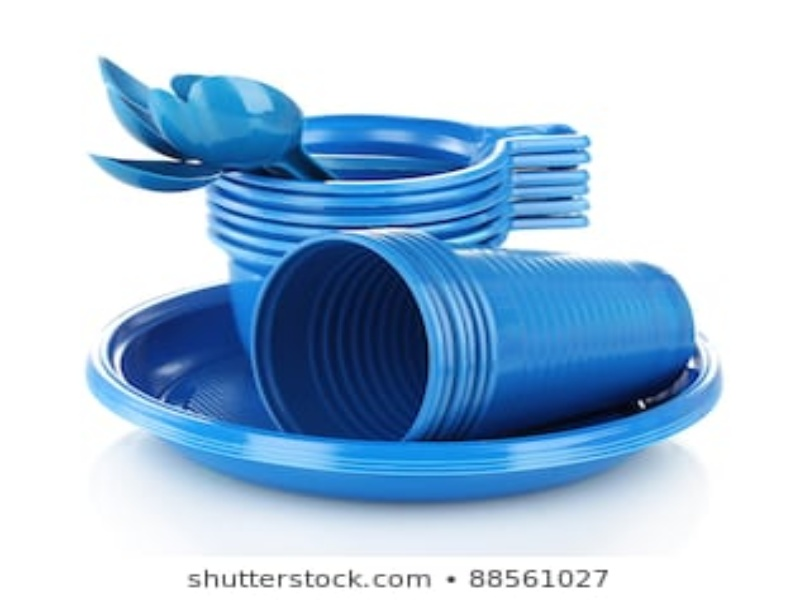plastic-cup: (246, 227, 700, 436)
plastic-plate: (80, 280, 734, 503)
plastic-silverware: (186, 77, 336, 181), (97, 50, 228, 166), (84, 146, 251, 193), (105, 89, 202, 166)
